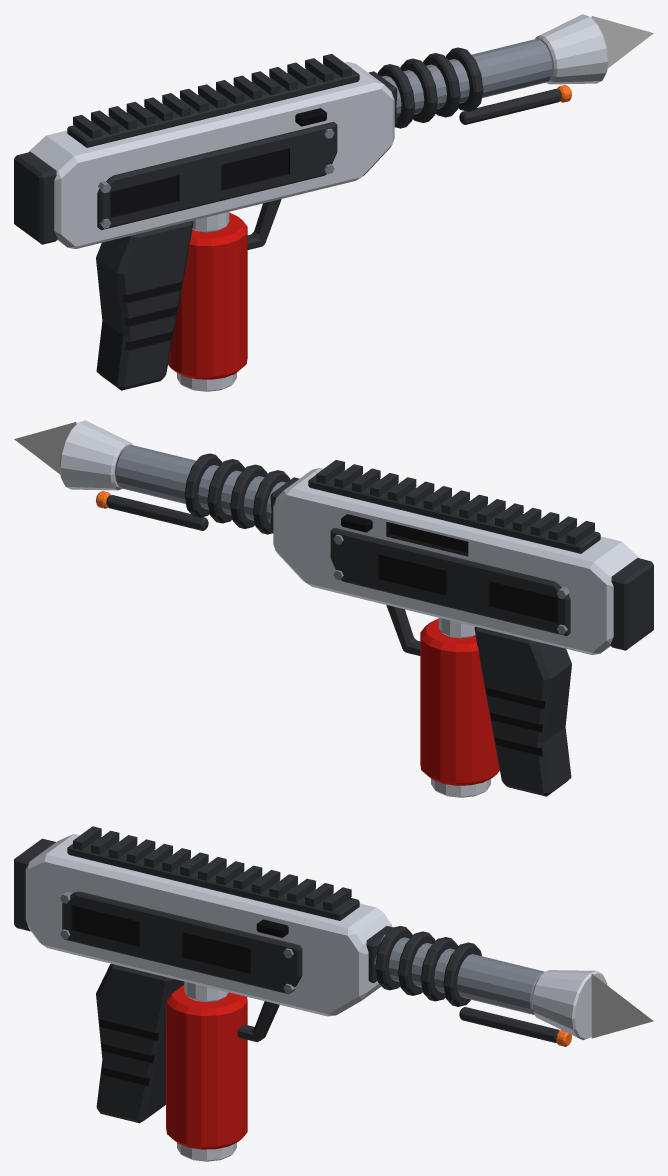
Rendered from blow_torch42.obj.
3 views of the same model, one above another, from view 1: azimuth 30°, elevation 25°; view 2: azimuth 150°, elevation 25°; view 3: azimuth 330°, elevation 25° (orthographic).
Parts seen in each view (by area): view 1: body, barrel, tank, muzzle_0; view 2: body, barrel, tank, muzzle_0; view 3: body, barrel, tank, muzzle_0.
Part boxes in pixels (x1,y1,x2,y2): body: (14, 54, 397, 390); barrel: (377, 14, 608, 128); tank: (168, 212, 247, 391); muzzle_0: (591, 16, 653, 68); body: (270, 460, 653, 796); barrel: (59, 420, 290, 534); tank: (420, 618, 499, 797); muzzle_0: (14, 422, 76, 474); body: (14, 826, 393, 1123); barrel: (374, 926, 607, 1046); tank: (166, 981, 247, 1161); muzzle_0: (591, 974, 653, 1038).
Size of the model in its own units: 0.3864 by 0.1685 by 0.048.
